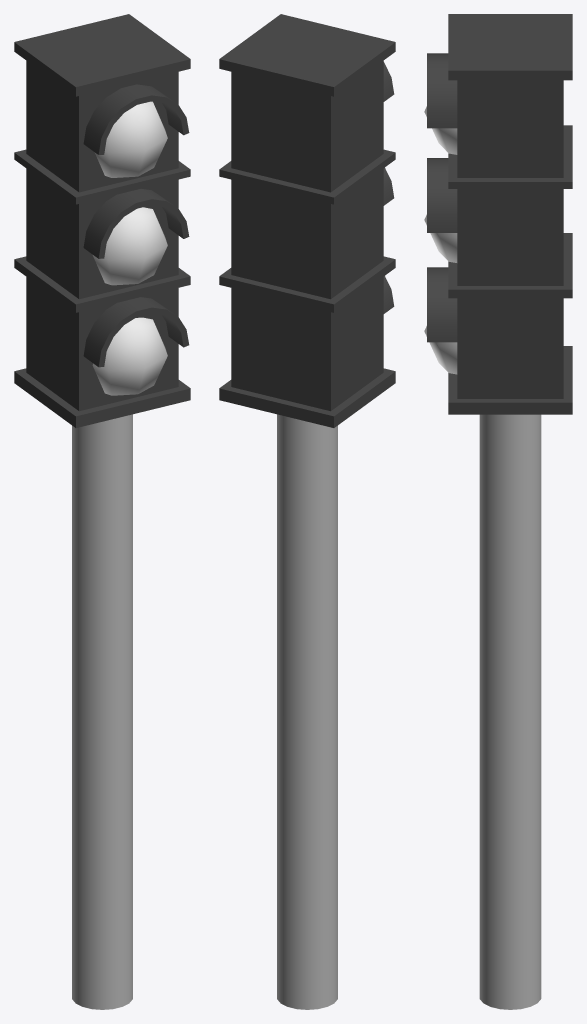
File: M_TrafficLight.FBX
3 views of the same model, side by side, from view 1: azimuth 30°, elevation 25°; view 2: azimuth 150°, elevation 25°; view 3: azimuth 270°, elevation 25° (orthographic).
Visible parts, largest first — view 1: TrafficLight, GreenLight, OrangeLight, RedLight; view 2: TrafficLight; view 3: TrafficLight, GreenLight, OrangeLight, RedLight.
Boxes of the visible parts, x1,y1,x2,y2 form: TrafficLight: (14,14,190,1009); GreenLight: (92,317,167,395); OrangeLight: (92,207,167,285); RedLight: (94,101,167,177); TrafficLight: (219,14,395,1009); TrafficLight: (427,14,572,1009); GreenLight: (424,326,457,374); OrangeLight: (424,214,457,262); RedLight: (424,106,457,154).
Bounding box in the file's own units: 0.4011 × 0.4449 × 3.16.
